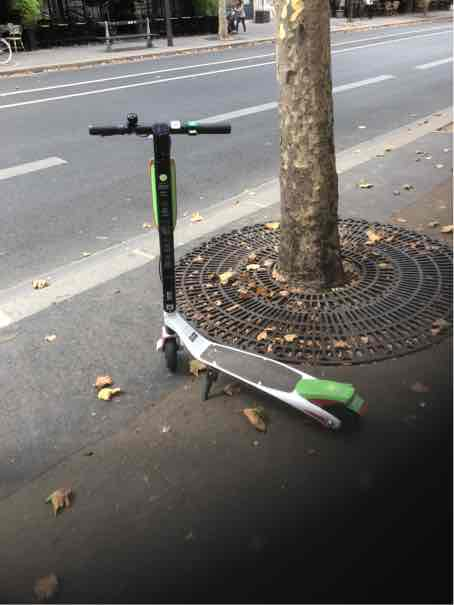scooter: (86, 121, 372, 435)
